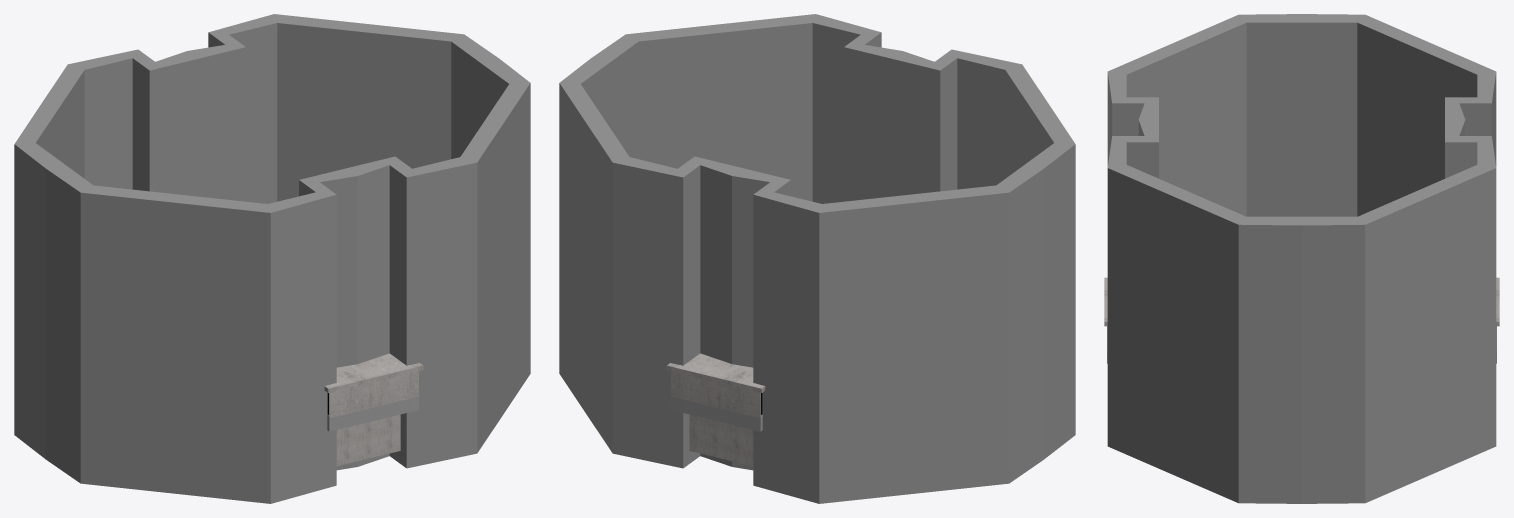
Rendered from court.fbx.
The picture shows the model from 3 angles, left to right: view 1: azimuth 30°, elevation 25°; view 2: azimuth 150°, elevation 25°; view 3: azimuth 270°, elevation 25°; orthographic projection. The views are drawn at different scales.
Visible parts, largest first — view 1: TeleportBound, Builiding, Court; view 2: TeleportBound, Builiding, Court; view 3: TeleportBound, Builiding.
Part boxes in pixels (bbox=[...]): TeleportBound: bbox=[14, 14, 530, 503]; Builiding: bbox=[324, 353, 423, 431]; Court: bbox=[336, 414, 400, 466]; TeleportBound: bbox=[559, 14, 1075, 503]; Builiding: bbox=[666, 353, 765, 431]; Court: bbox=[689, 414, 753, 466]; TeleportBound: bbox=[1107, 14, 1496, 503]; Builiding: bbox=[1104, 277, 1499, 363].
Size of the model in its own units: 8573 by 5265 by 6772.
